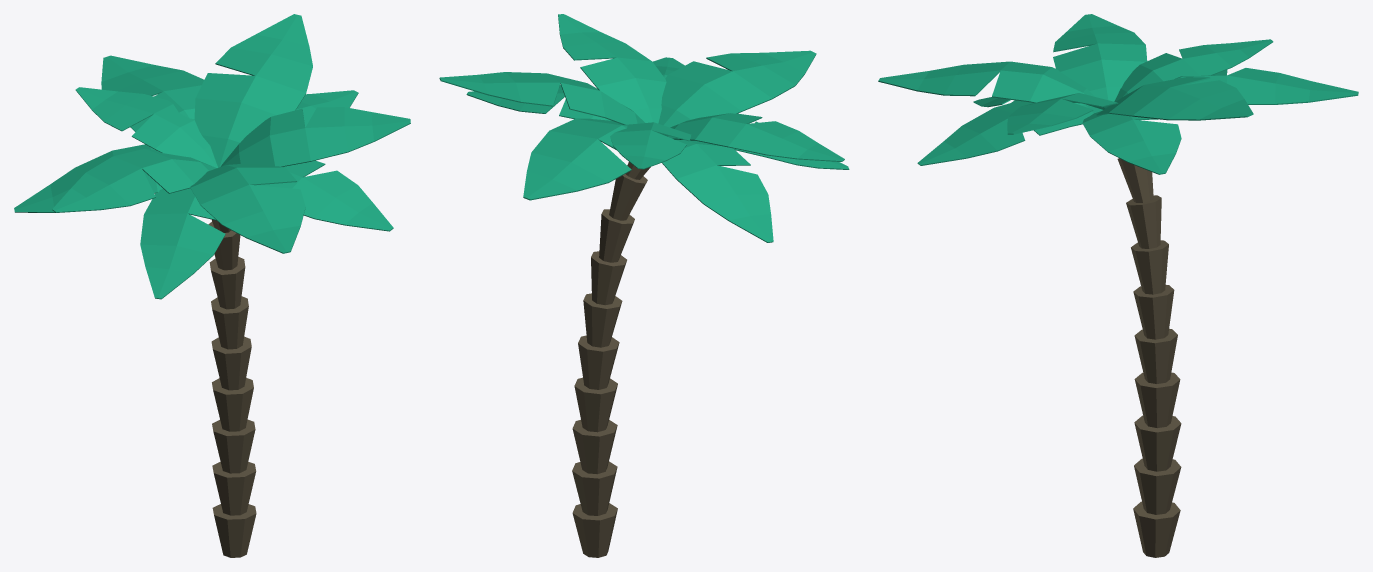
File: PalmTree.fbx
The picture shows the model from 3 angles, left to right: view 1: azimuth 30°, elevation 25°; view 2: azimuth 150°, elevation 25°; view 3: azimuth 270°, elevation 25°; orthographic projection. The views are drawn at different scales.
Parts seen in each view (by area): view 1: Palm.001, Leaf.017, Leaf.015, Leaf.016, Leaf.010, Leaf.019, Leaf.018, Leaf.011, Leaf.013, Leaf.014, Leaf.012; view 2: Palm.001, Leaf.015, Leaf.013, Leaf.014, Leaf.016, Leaf.017, Leaf.019, Leaf.018, Leaf.012, Leaf.010; view 3: Palm.001, Leaf.015, Leaf.019, Leaf.017, Leaf.012, Leaf.011, Leaf.018, Leaf.013, Leaf.016.
Boxes of the visible parts, x1,y1,x2,y2 form: Palm.001: (208, 219, 256, 557); Leaf.017: (194, 14, 312, 167); Leaf.015: (190, 163, 305, 253); Leaf.016: (220, 107, 410, 166); Leaf.010: (140, 188, 225, 299); Leaf.019: (52, 148, 216, 212); Leaf.018: (75, 87, 218, 167); Leaf.011: (257, 160, 393, 231); Leaf.013: (101, 55, 203, 131); Leaf.014: (14, 144, 162, 212); Leaf.012: (296, 90, 358, 127); Palm.001: (572, 162, 650, 557); Leaf.015: (658, 50, 816, 127); Leaf.013: (523, 118, 631, 200); Leaf.014: (662, 139, 773, 242); Leaf.016: (558, 14, 666, 123); Leaf.017: (439, 72, 644, 124); Leaf.019: (660, 113, 844, 161); Leaf.018: (610, 122, 691, 169); Leaf.012: (466, 85, 610, 120); Leaf.010: (734, 121, 849, 169); Palm.001: (1117, 158, 1181, 557); Leaf.015: (878, 61, 1094, 106); Leaf.019: (1053, 14, 1147, 101); Leaf.017: (1096, 77, 1253, 120); Leaf.012: (1082, 111, 1181, 174); Leaf.011: (917, 101, 1102, 165); Leaf.018: (1114, 39, 1273, 101); Leaf.013: (1174, 68, 1358, 104); Leaf.016: (1007, 93, 1119, 134).
Size of the model in its own units: 2.88 by 3.88 by 3.43.
